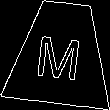M_N: (35, 25, 87, 81)
